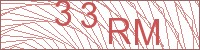3: (79, 1, 98, 30), (54, 1, 72, 28)
M: (134, 17, 161, 46)
R: (107, 16, 132, 45)
